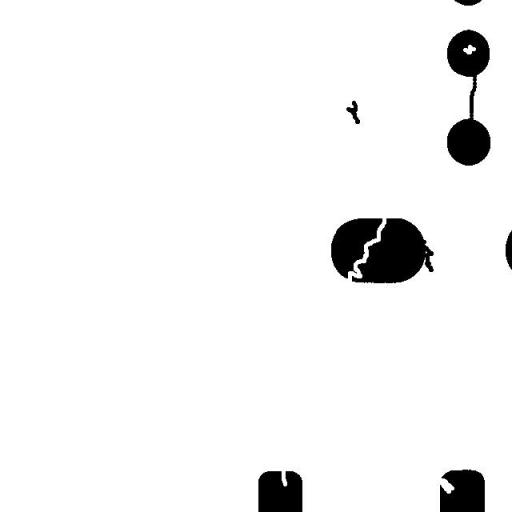copper: (338, 93, 368, 131)
mousebite: (430, 470, 462, 501), (274, 458, 294, 494)
open: (339, 208, 394, 290)
pin-hole: (455, 36, 483, 62)
short: (462, 58, 484, 142)
spur: (412, 232, 441, 279)
